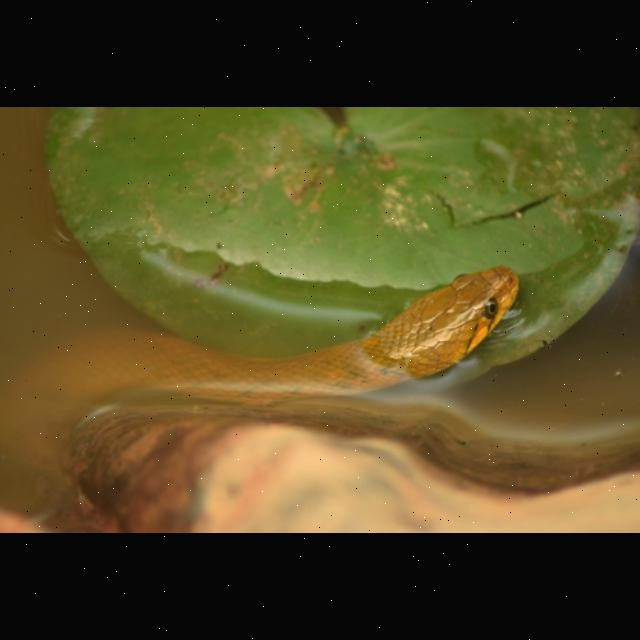snake: (111, 266, 522, 416)
